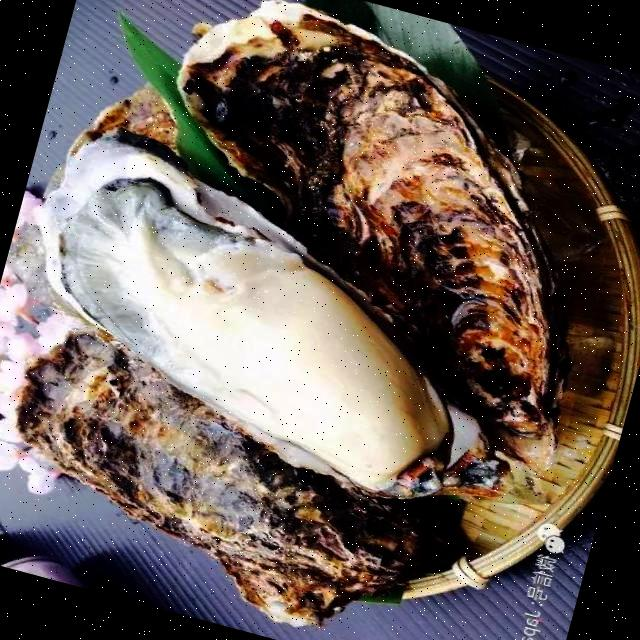Oyster-Closed: (175, 2, 564, 467)
Oyster-Open: (42, 135, 449, 489), (19, 334, 422, 624)
